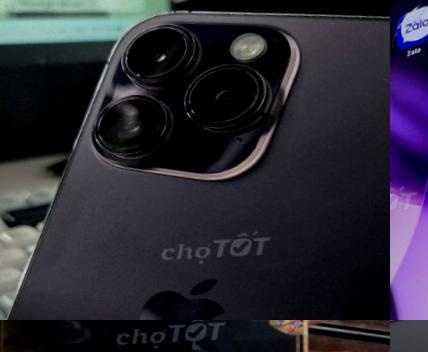physical_damage: (390, 0, 428, 320)
